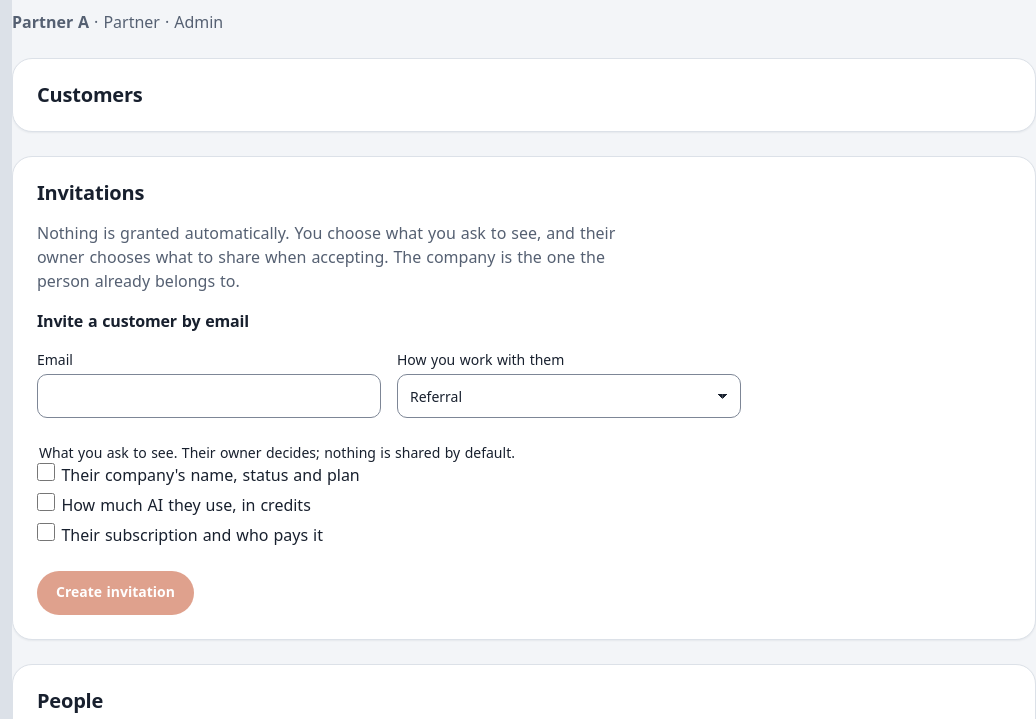
Test case: the partner console (ADR-0090) › invites by email asking only what was ticked, and shows the link once
In the field labelled "Email": (209,396) [37,374,381,418], type "ana@example.com"
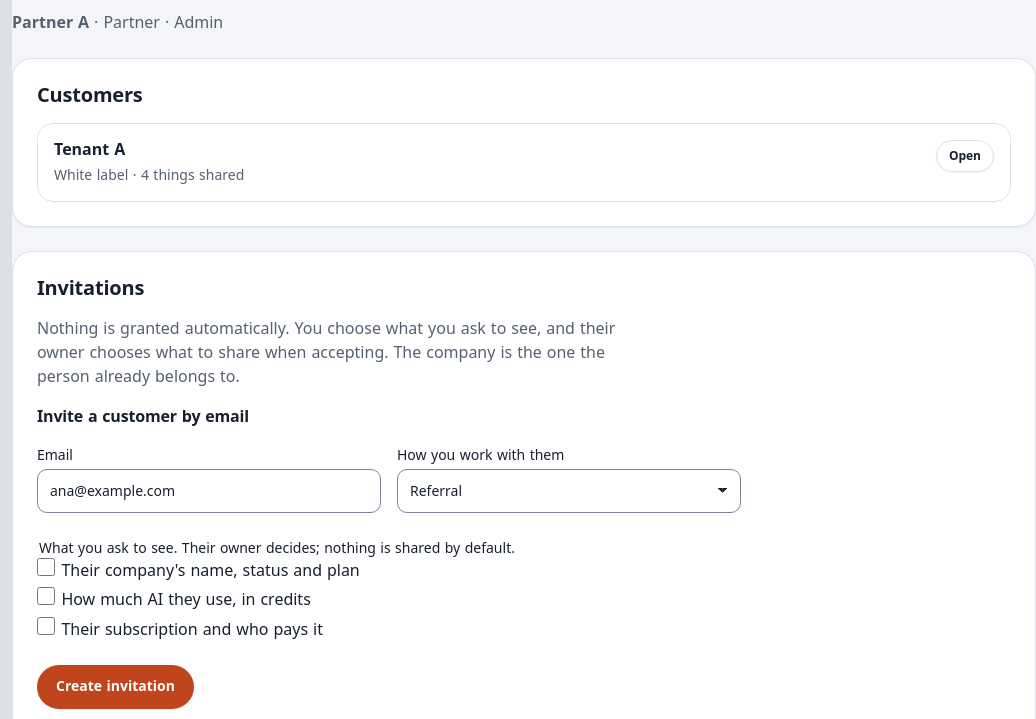
Click the checkbox labelled "Their company's name, status and plan": (46,566) [37,558,55,576]
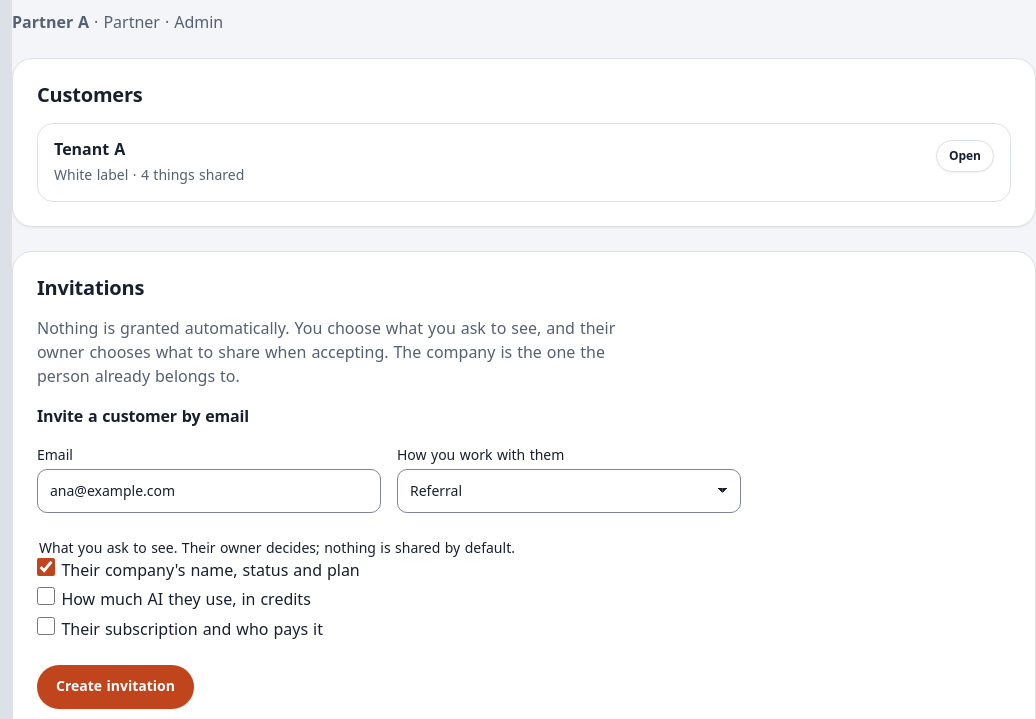
Submit the form named "Create invitation", box [37,404,741,709]
(page scrolled)
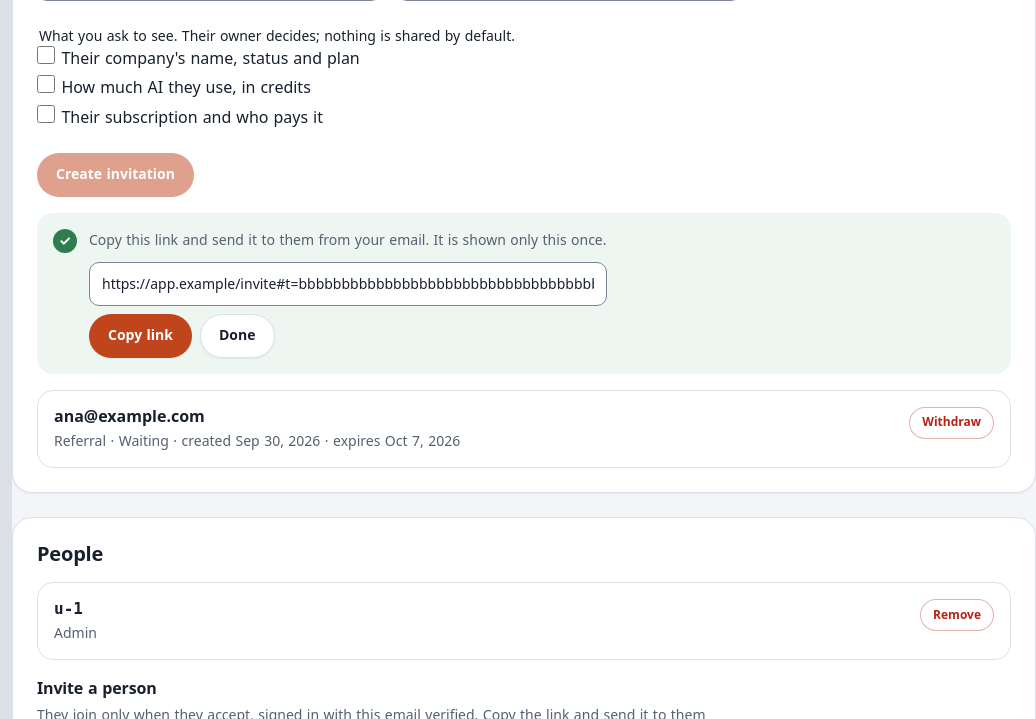
Check: the text "Waiting" is shown, box [119,431,169,450]
Click the button "Done": (237,336) [200,314,274,358]
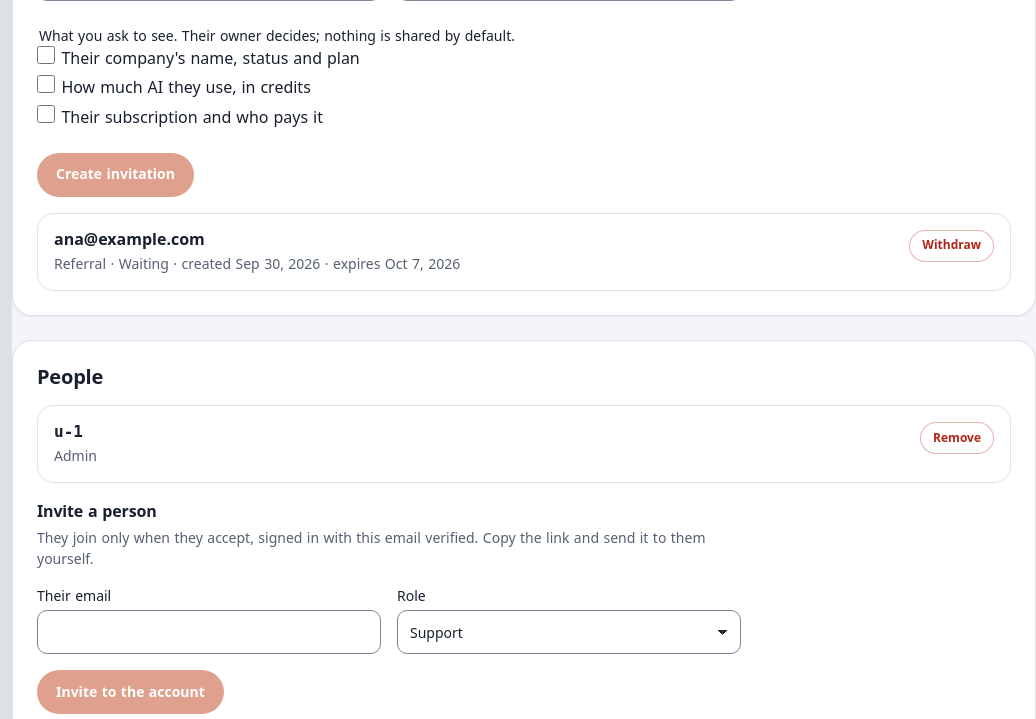
Check: the field labelled "Invitation link" is not shown
Click the button "Withdraw": (952,246) [909,230,994,262]
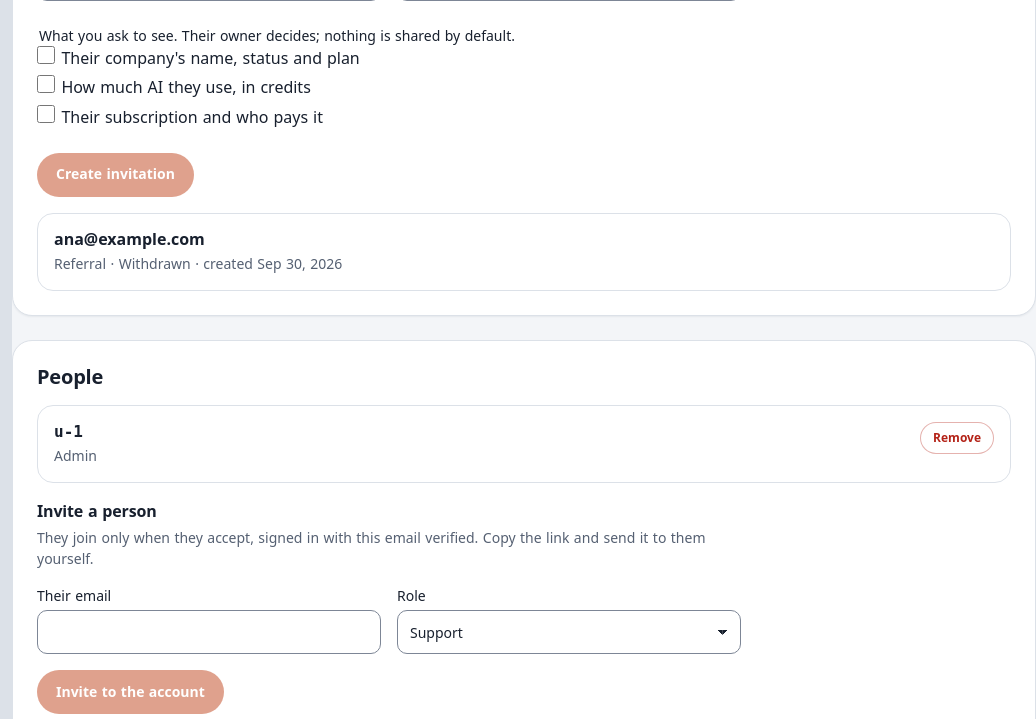
Check: the text "Referral · Withdrawn · created Sep 30, 2026" is shown, box [54,254,342,273]
